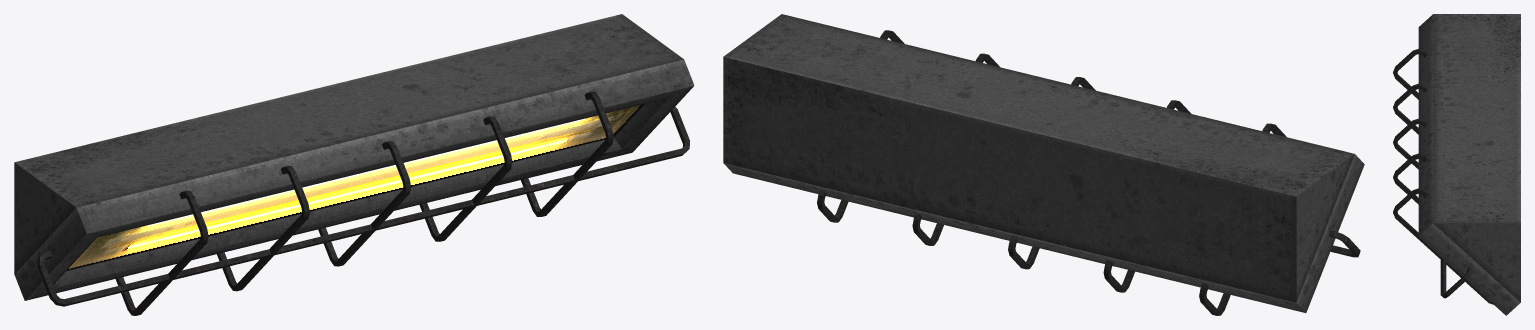
The model's file is lamp_3_1_on.glb.
The picture shows the model from 3 angles, left to right: view 1: azimuth 30°, elevation 25°; view 2: azimuth 150°, elevation 25°; view 3: azimuth 270°, elevation 25°; orthographic projection. The views are drawn at different scales.
Visible parts, largest first — view 1: lamp_3_1_on, lamp_3_1_on_protector; view 2: lamp_3_1_on, lamp_3_1_on_protector; view 3: lamp_3_1_on, lamp_3_1_on_protector.
Boxes of the visible parts, x1,y1,x2,y2 form: lamp_3_1_on: [14, 14, 694, 300]; lamp_3_1_on_protector: [37, 92, 689, 315]; lamp_3_1_on: [723, 14, 1364, 312]; lamp_3_1_on_protector: [817, 30, 1360, 315]; lamp_3_1_on: [1418, 14, 1520, 315]; lamp_3_1_on_protector: [1393, 48, 1493, 304].
Size of the model in its own units: 1.26 by 0.3092 by 0.3092.
2 materials, 2 textured.
